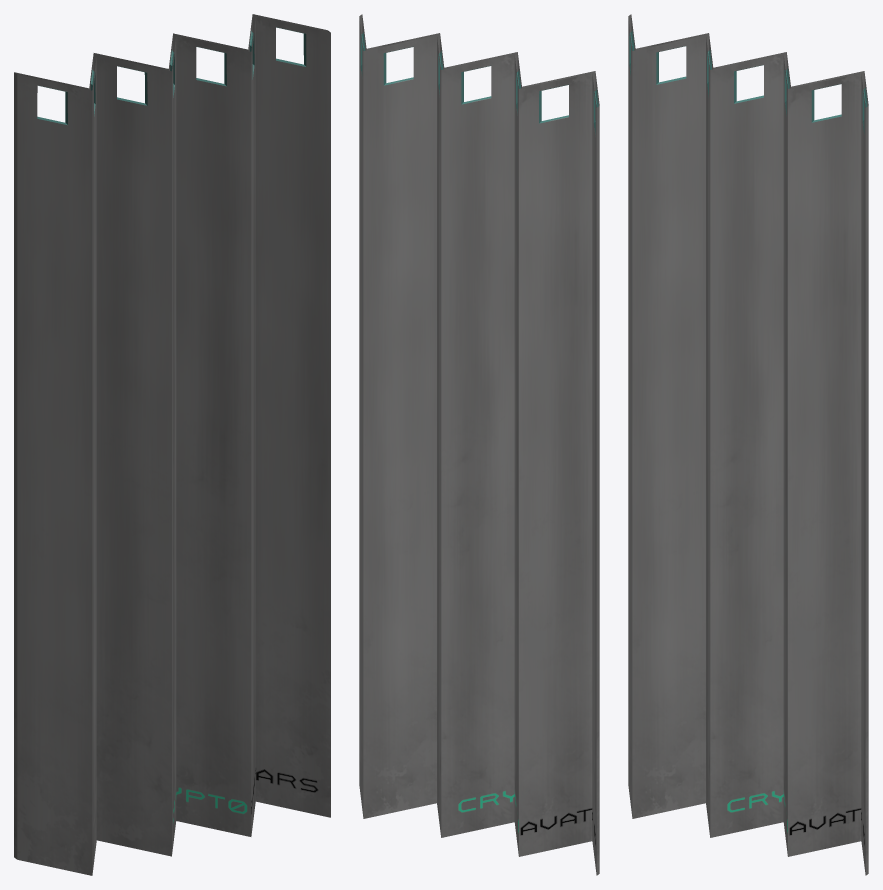
The model's file is Curtain_01.optimized.glb.
3 renders of one model, left to right at view 1: azimuth 30°, elevation 25°; view 2: azimuth 150°, elevation 25°; view 3: azimuth 330°, elevation 25°, orthographic. The views are drawn at different scales.
Parts seen in each view (by area): view 1: Curtain_01; view 2: Curtain_01; view 3: Curtain_01.
Boxes of the visible parts, <box> form: Curtain_01: <box>14,14,330,875</box>; Curtain_01: <box>359,14,599,875</box>; Curtain_01: <box>628,14,868,875</box>.
Size of the model in its own units: 1.14 by 3.07 by 0.2732.
Materials: 1 (1 with a texture image).
